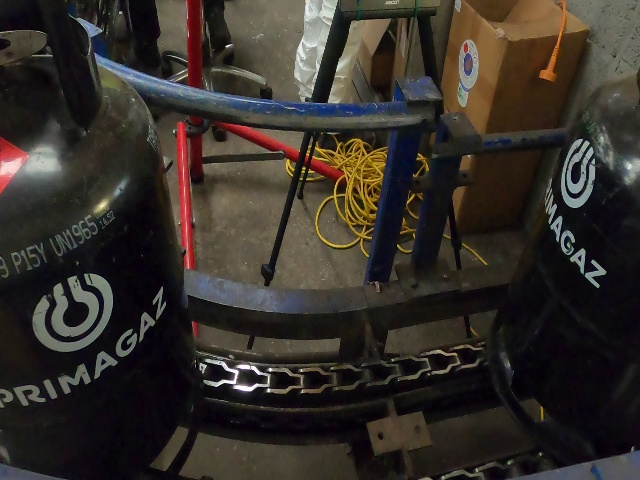gas_bottle: (8, 2, 640, 480)
